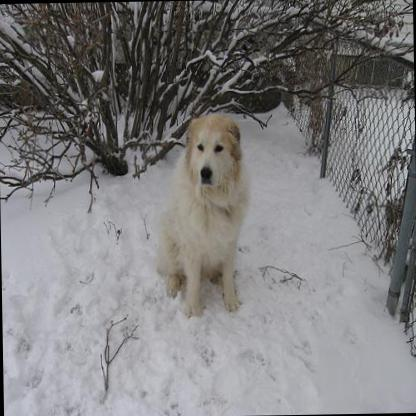Great_Pyrenees: (148, 116, 250, 318)
